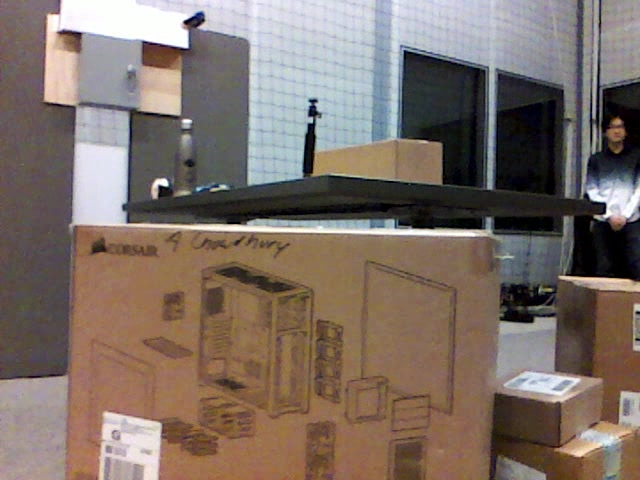box: (71, 220, 498, 480), (556, 274, 640, 418), (496, 370, 607, 445), (495, 422, 640, 479), (315, 140, 443, 182)
